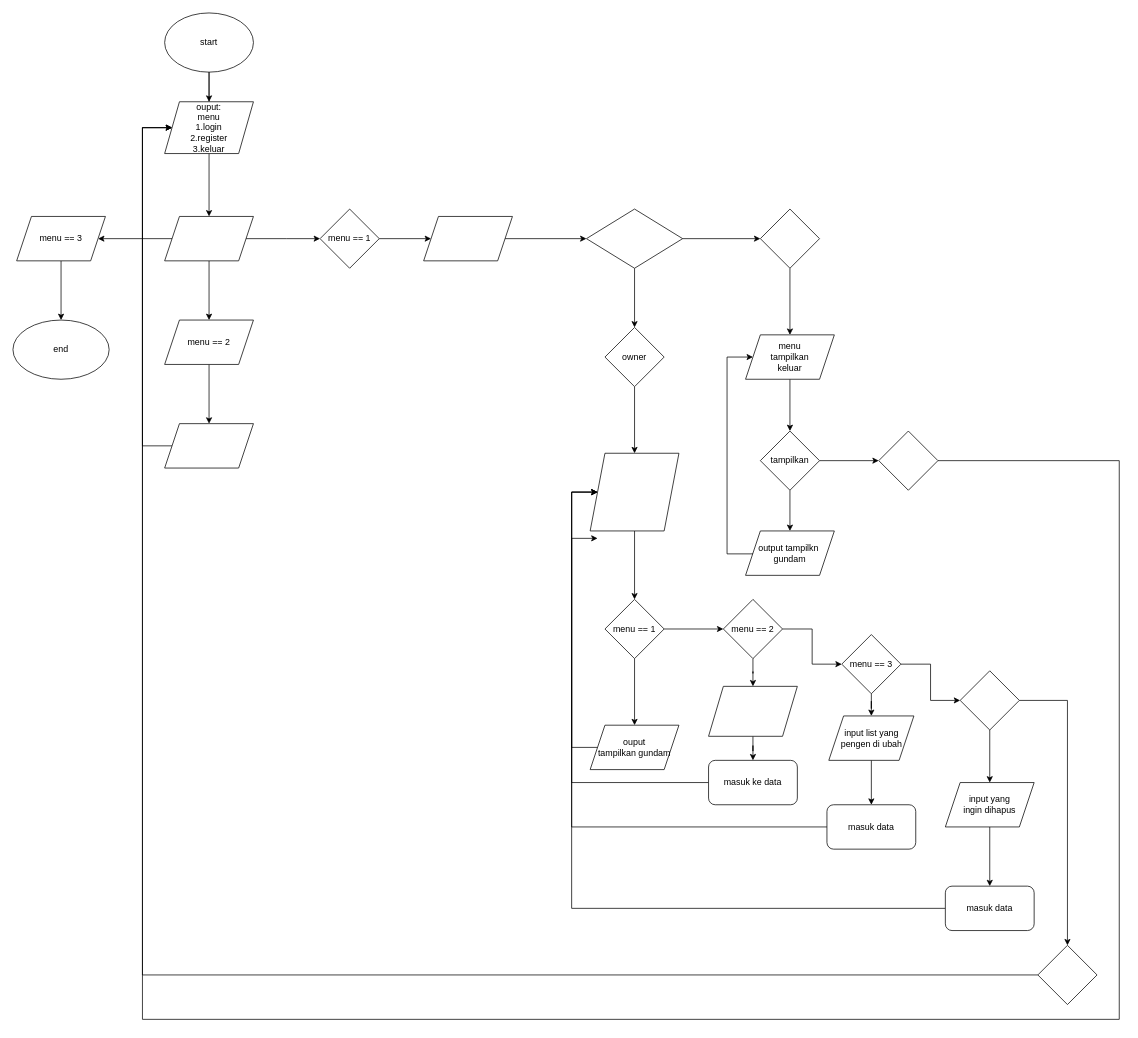
The diagram is 1138 pixels wide and 1038 high, and some of its shapes have lost their labels. The box of each missing label's shape, as (x1, y1, x2, y2) in pixels:
input komandan baru role baru: (164, 423, 253, 468)
input menu: (164, 216, 253, 261)
input nama grade kondisi: (708, 686, 797, 736)
input: komandan password: (423, 216, 512, 261)
keluar: (878, 430, 938, 490)
komandan dan password: (586, 208, 683, 268)
menu == 4: (959, 670, 1019, 730)
menu == 5: (1037, 945, 1097, 1005)
menu tampilkan tambah update hapus keluar: (589, 453, 679, 531)
pelancong: (760, 208, 820, 268)
